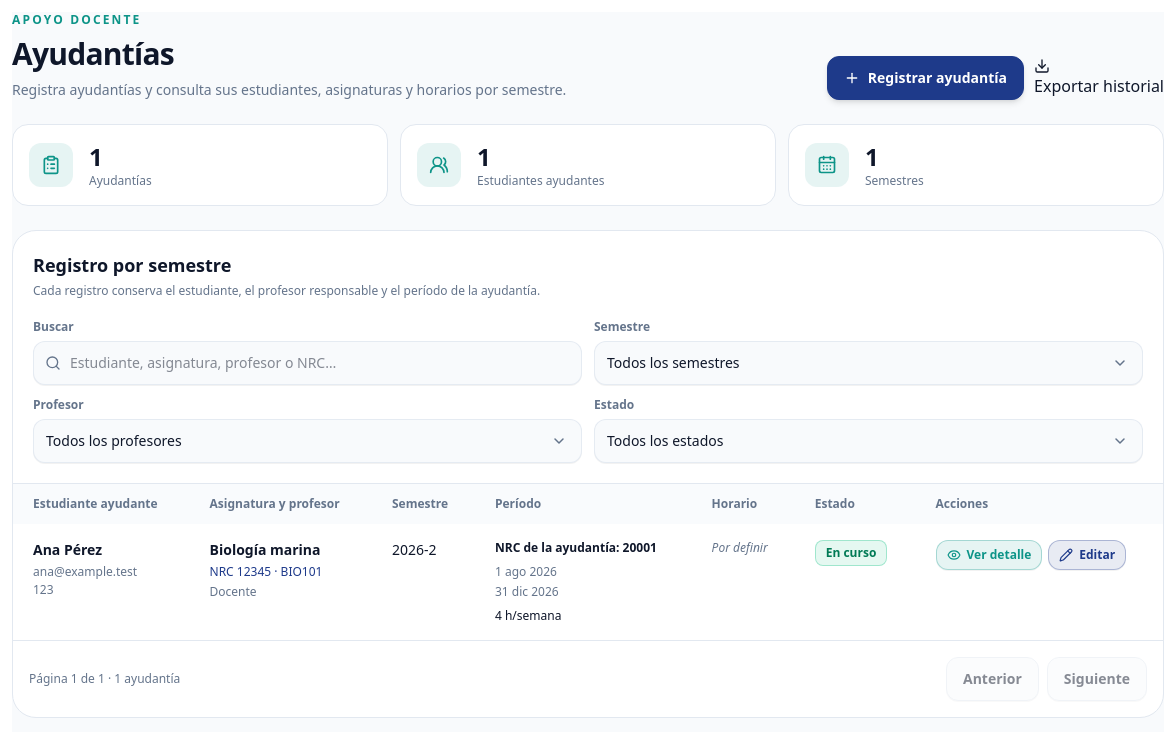
assistantship management › loads records and sends semester/status/search filters to the server
Expected: the button "Ana Pérez" is shown, [33, 540, 102, 560]
Select "2026-2" in the dropdown labelled "Semestre": (868, 363) [594, 341, 1143, 385]
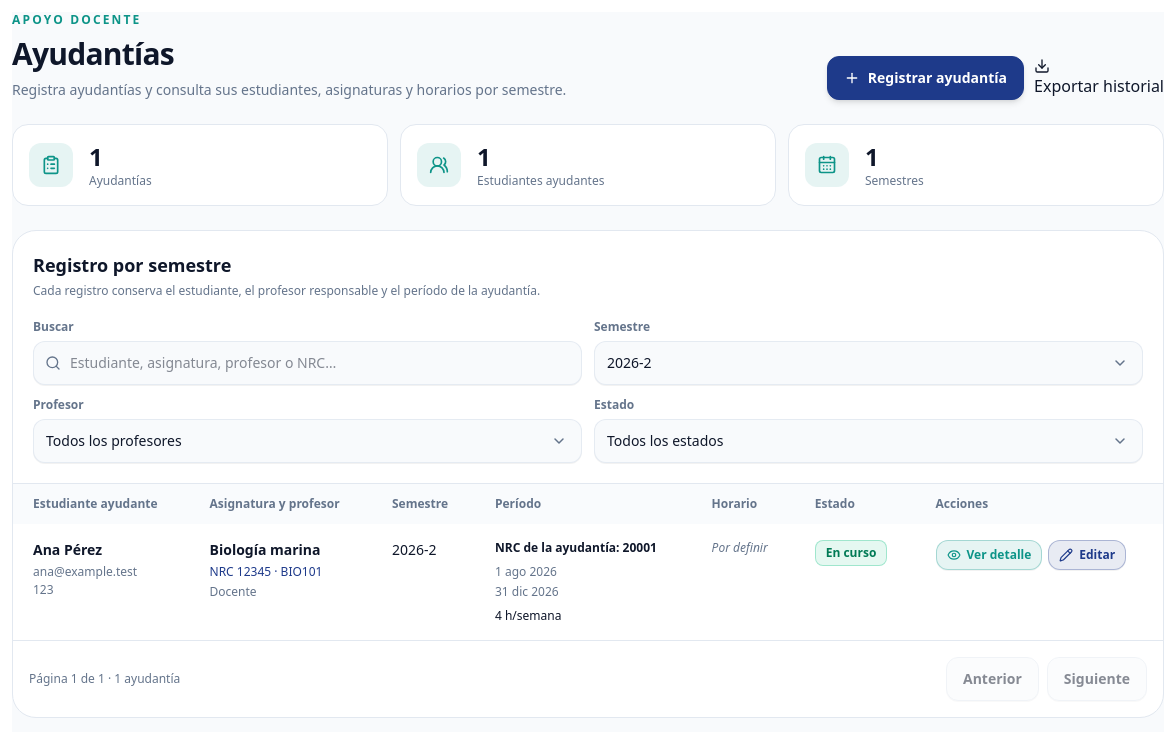
Select "Finalizada" in the dropdown labelled "Estado": (868, 441) [594, 419, 1143, 463]
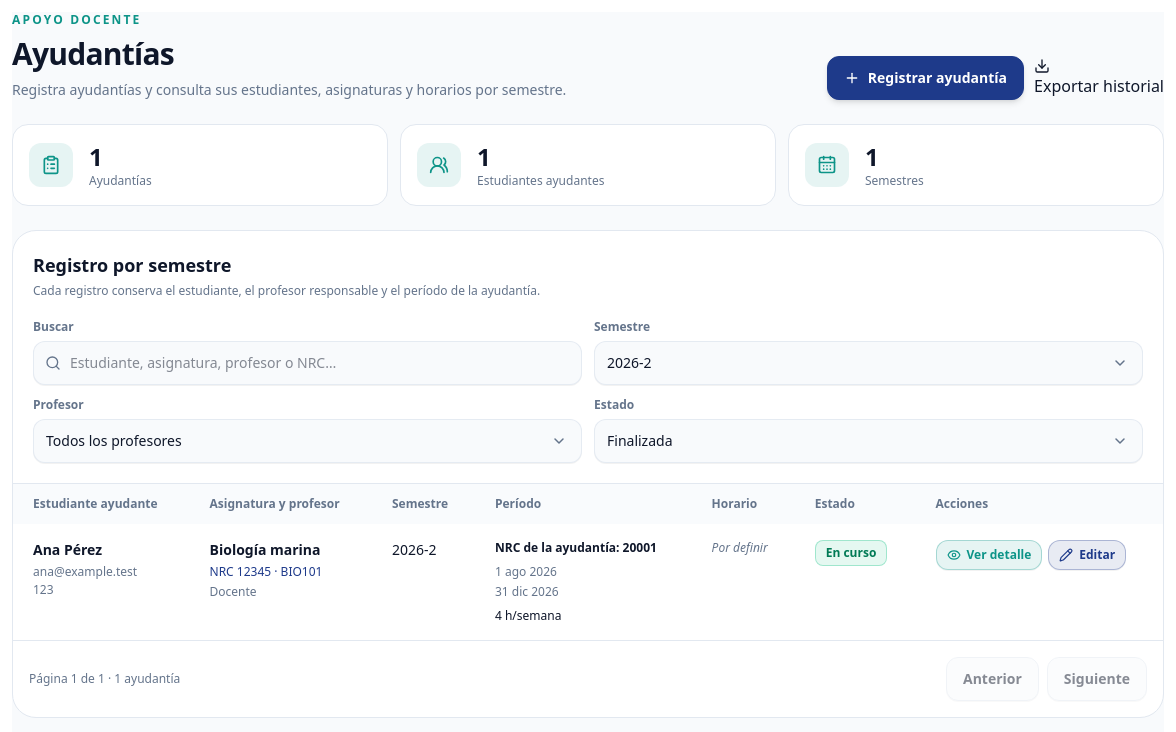
In the search field labelled "Buscar": (308, 363) [33, 341, 582, 385], type "missing"
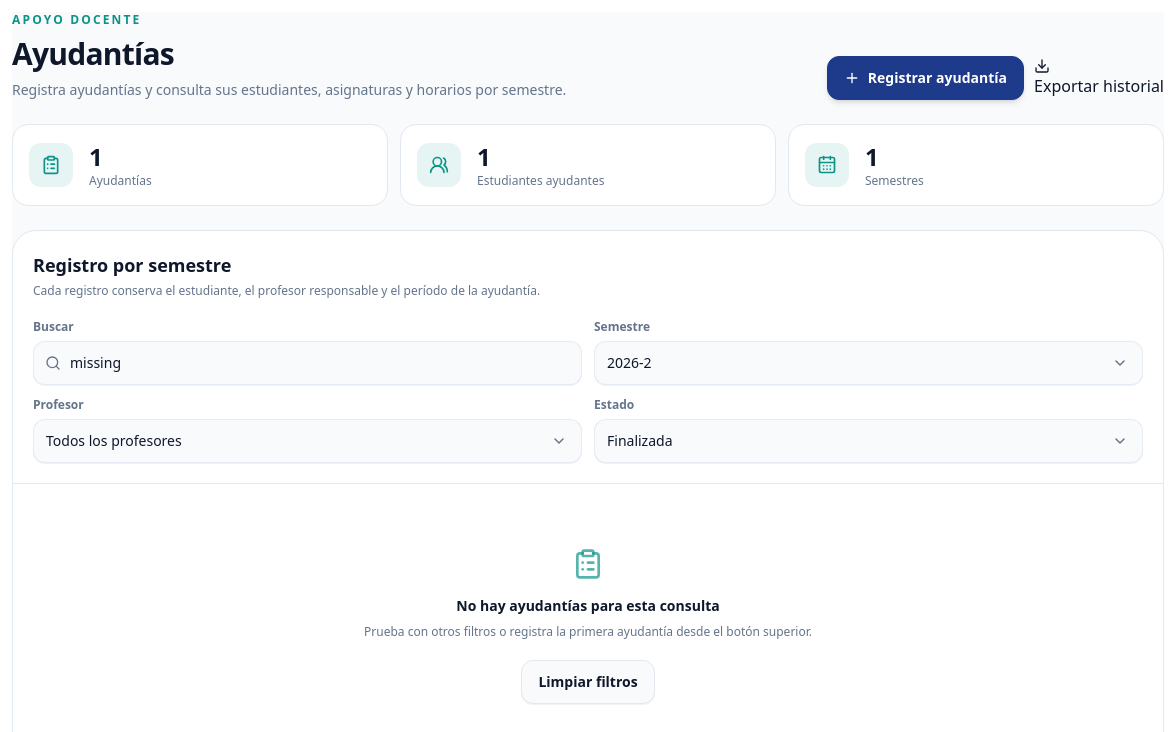
Expected: the text "No hay ayudantías para esta consulta" is shown, [456, 596, 720, 615]
